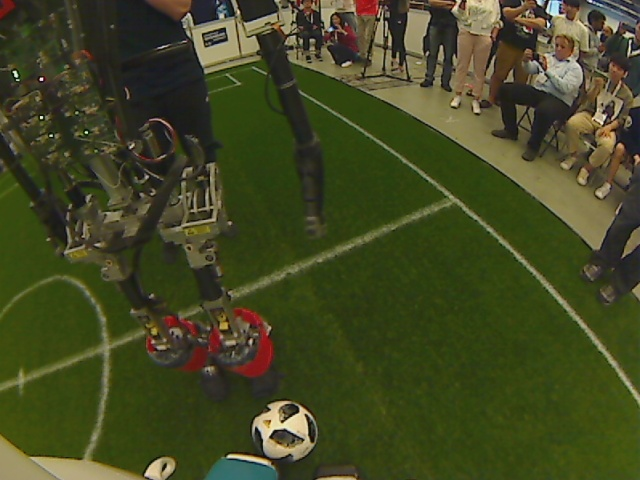ball: (248, 397, 319, 462)
